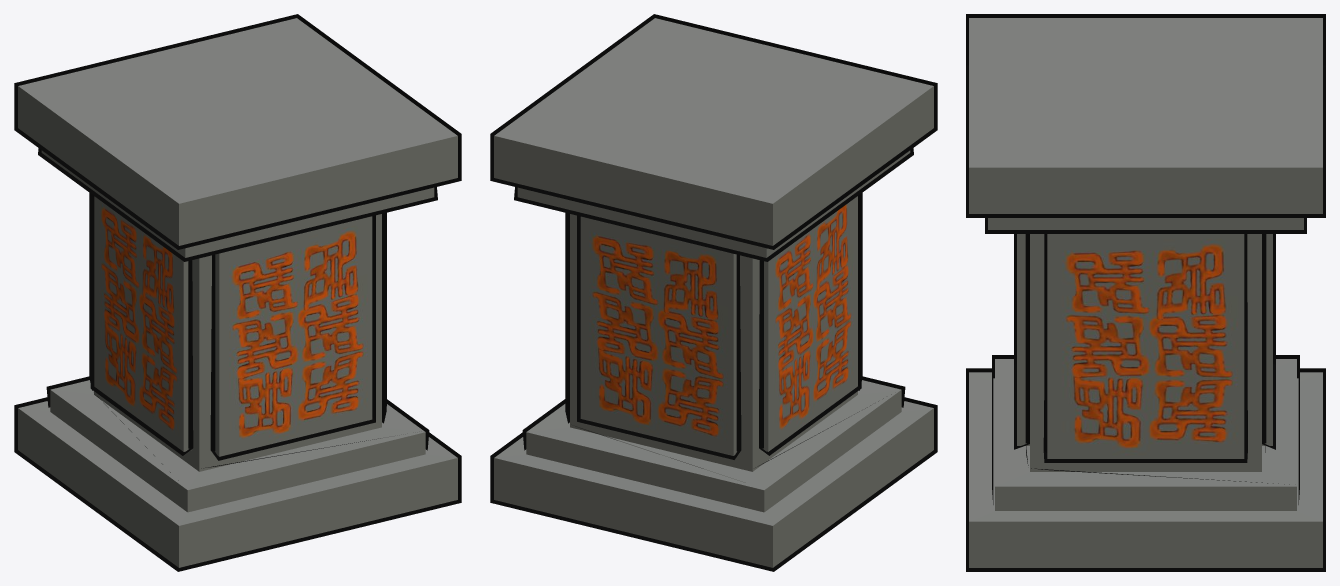
Rendered from env_big_piller.glb.
The picture shows the model from 3 angles, left to right: view 1: azimuth 30°, elevation 25°; view 2: azimuth 150°, elevation 25°; view 3: azimuth 270°, elevation 25°; orthographic projection. The views are drawn at different scales.
Visible parts, largest first — view 1: Cube; view 2: Cube; view 3: Cube.
Boxes of the visible parts, x1,y1,x2,y2 form: Cube: (14, 14, 461, 571); Cube: (490, 14, 937, 571); Cube: (966, 14, 1325, 571).
Size of the model in its own units: 1.65 by 2.05 by 1.65.
Materials: 2 (1 with a texture image).
